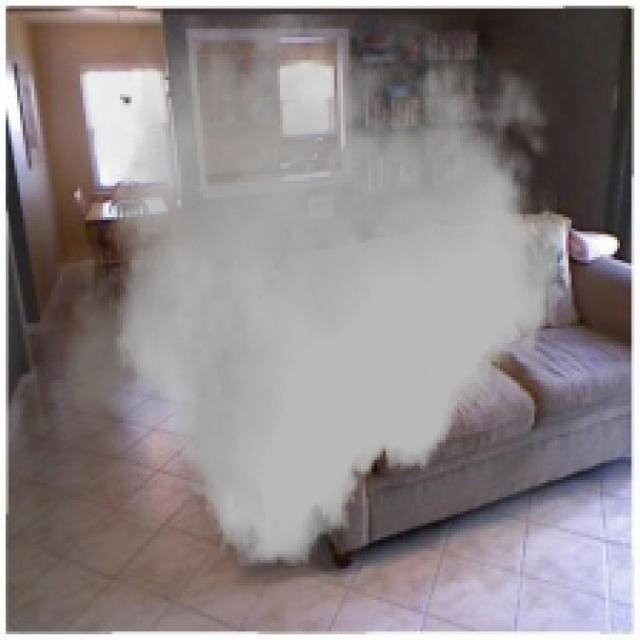Smoke: (51, 14, 566, 566)
